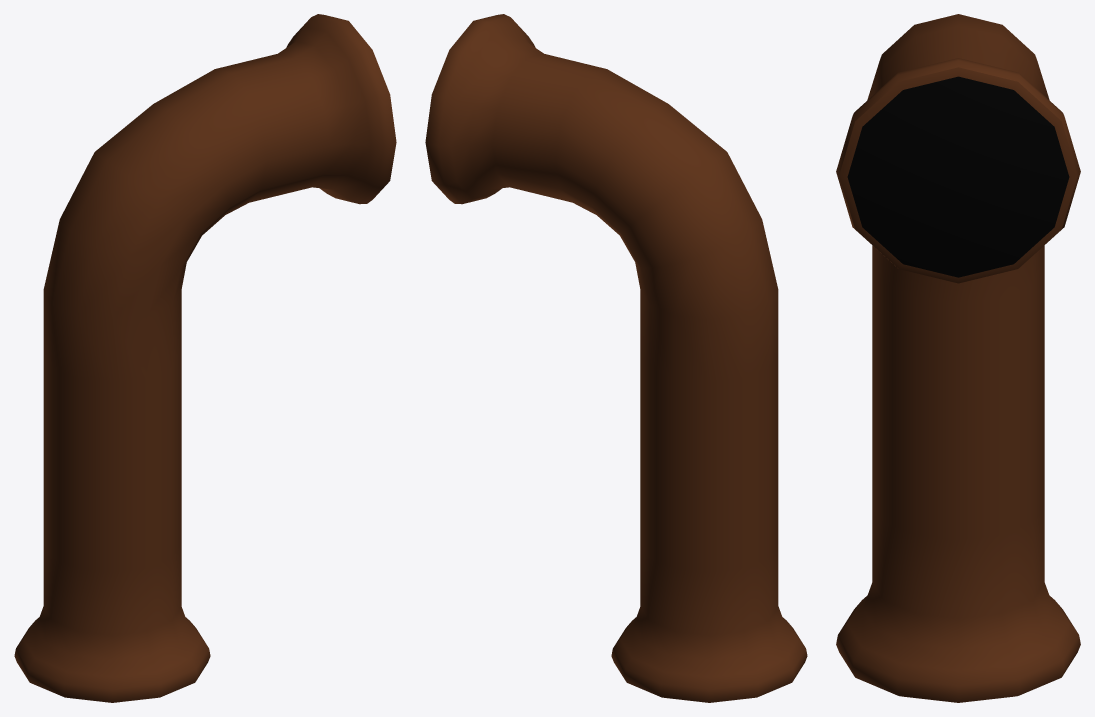
Rendered from Pipe_Curve_1x1_2m.fbx.
3 views of the same model, side by side, from view 1: azimuth 30°, elevation 25°; view 2: azimuth 150°, elevation 25°; view 3: azimuth 270°, elevation 25° (orthographic). The views are drawn at different scales.
Visible parts, largest first — view 1: Pipe_Curve_1x1_2m; view 2: Pipe_Curve_1x1_2m; view 3: Pipe_Curve_1x1_2m.
Part boxes in pixels (x1,y1,x2,y2): Pipe_Curve_1x1_2m: (14,14,396,702); Pipe_Curve_1x1_2m: (425,14,807,702); Pipe_Curve_1x1_2m: (836,14,1080,702).
Size of the model in its own units: 136 by 236 by 71.06.
